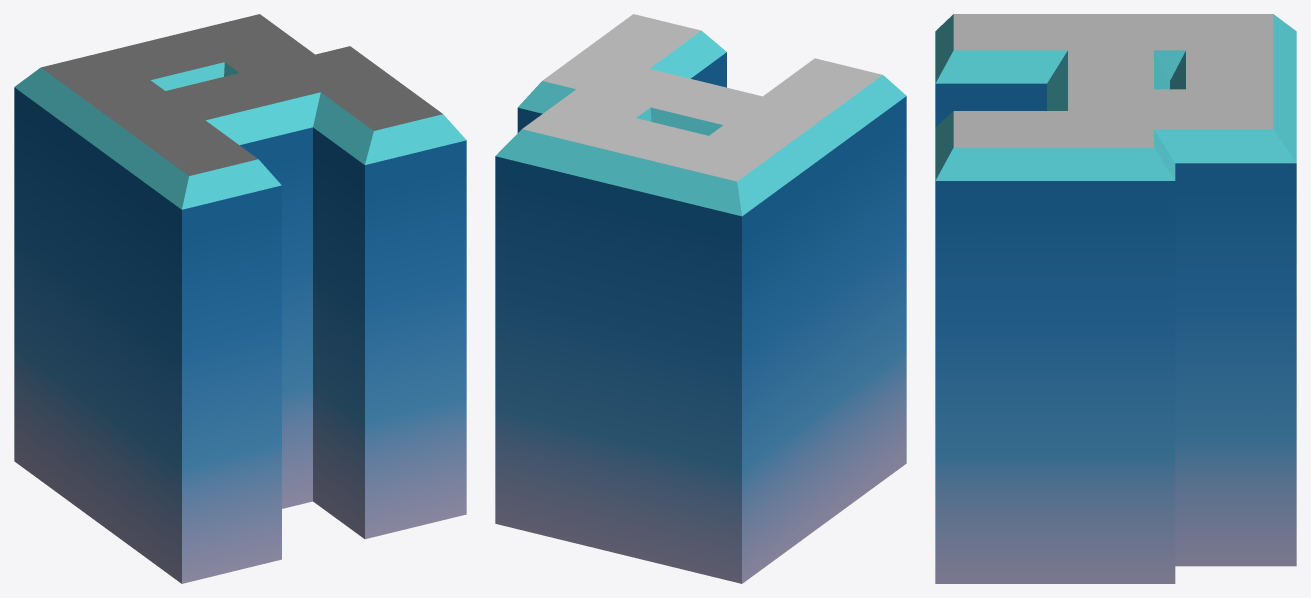
3 views of the same model, side by side, from view 1: azimuth 30°, elevation 25°; view 2: azimuth 150°, elevation 25°; view 3: azimuth 270°, elevation 25° (orthographic). The views are drawn at different scales.
Visible parts, largest first — view 1: Joint_0_Object_0, Joint_0_Object_1; view 2: Joint_0_Object_0, Joint_0_Object_1; view 3: Joint_0_Object_0, Joint_0_Object_1.
Boxes of the visible parts, <box> form: Joint_0_Object_0: <box>14,62,466,583</box>; Joint_0_Object_1: <box>41,14,442,175</box>; Joint_0_Object_0: <box>495,30,906,583</box>; Joint_0_Object_1: <box>522,14,882,181</box>; Joint_0_Object_0: <box>935,14,1296,583</box>; Joint_0_Object_1: <box>953,14,1273,147</box>.
Bounding box in the file's own units: 105 × 140 × 107.
